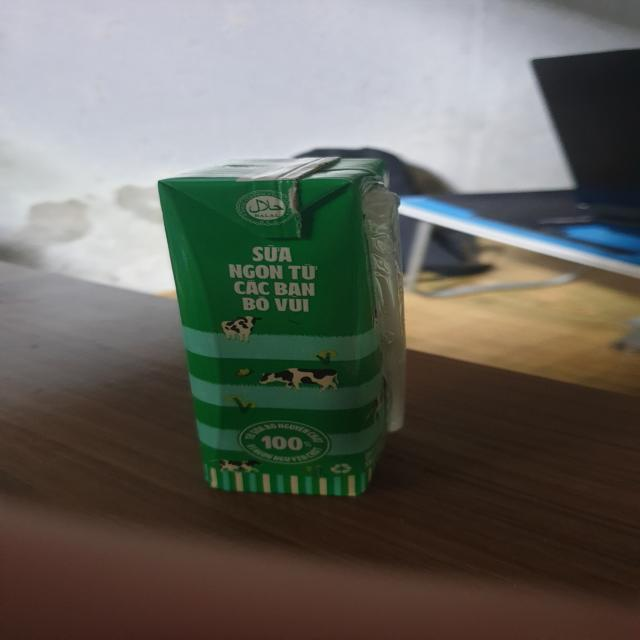Vina: (156, 155, 405, 501)
